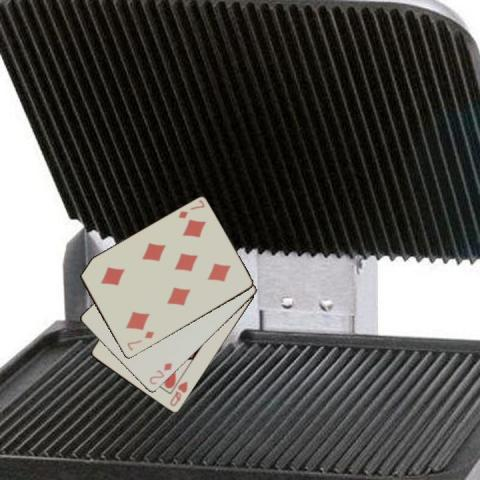2d: (146, 360, 173, 387)
7d: (124, 328, 155, 352), (175, 197, 206, 220)
Qh: (167, 379, 189, 408)
